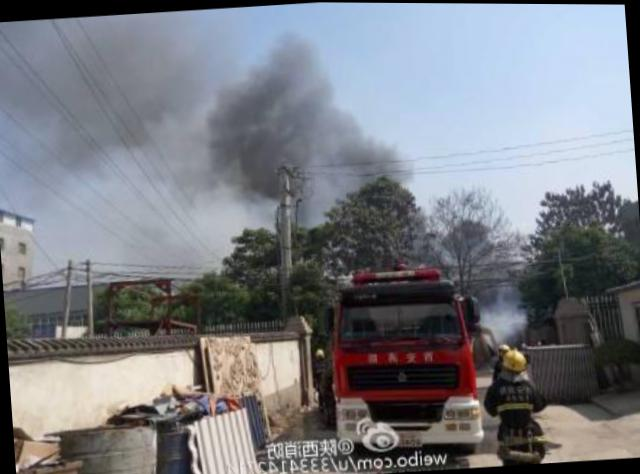smoke: (66, 27, 207, 162), (216, 118, 412, 200), (208, 34, 352, 125), (473, 301, 528, 352)
